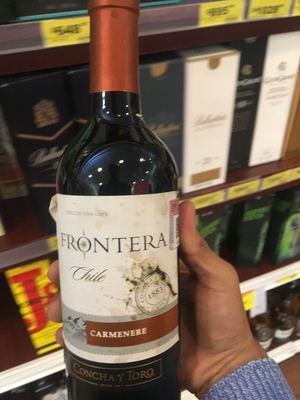frontera carmenere: (51, 14, 180, 400)
